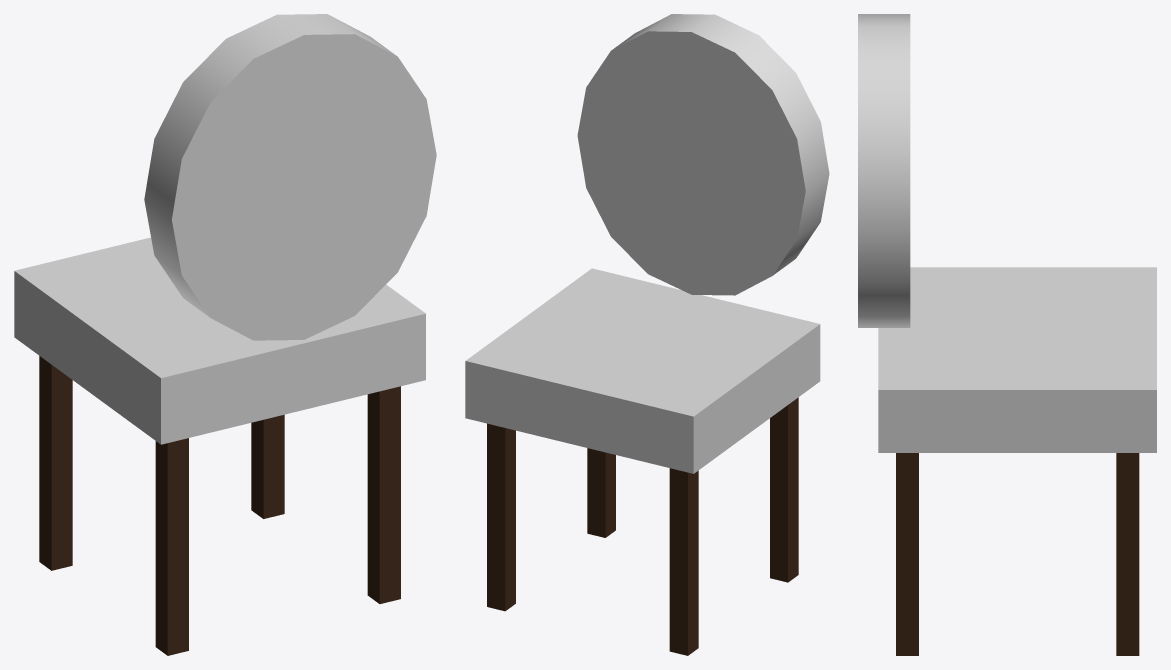
File: chair-striped.obj
3 views of the same model, side by side, from view 1: azimuth 30°, elevation 25°; view 2: azimuth 150°, elevation 25°; view 3: azimuth 270°, elevation 25° (orthographic). The views are drawn at different scales.
Visible parts, largest first — view 1: chair-striped_5, chair-striped_4, chair-striped_2, chair-striped_3, chair-striped_0, chair-striped_1; view 2: chair-striped_5, chair-striped_4, chair-striped_0, chair-striped_1, chair-striped_2, chair-striped_3; view 3: chair-striped_4, chair-striped_5, chair-striped_1, chair-striped_3.
Part boxes in pixels (bbox=[...]): chair-striped_5: bbox=[144, 14, 436, 340]; chair-striped_4: bbox=[14, 237, 425, 444]; chair-striped_2: bbox=[155, 438, 188, 655]; chair-striped_3: bbox=[367, 386, 400, 603]; chair-striped_0: bbox=[39, 356, 72, 570]; chair-striped_1: bbox=[251, 414, 284, 518]; chair-striped_5: bbox=[577, 14, 829, 295]; chair-striped_4: bbox=[465, 268, 820, 473]; chair-striped_0: bbox=[669, 468, 698, 655]; chair-striped_1: bbox=[487, 423, 515, 611]; chair-striped_2: bbox=[770, 397, 798, 582]; chair-striped_3: bbox=[587, 448, 615, 537]; chair-striped_4: bbox=[878, 267, 1156, 452]; chair-striped_5: bbox=[858, 14, 910, 327]; chair-striped_1: bbox=[1116, 453, 1139, 655]; chair-striped_3: bbox=[896, 453, 918, 655].
Bounding box in the file's own units: 0.5 × 1.1 × 0.515.
